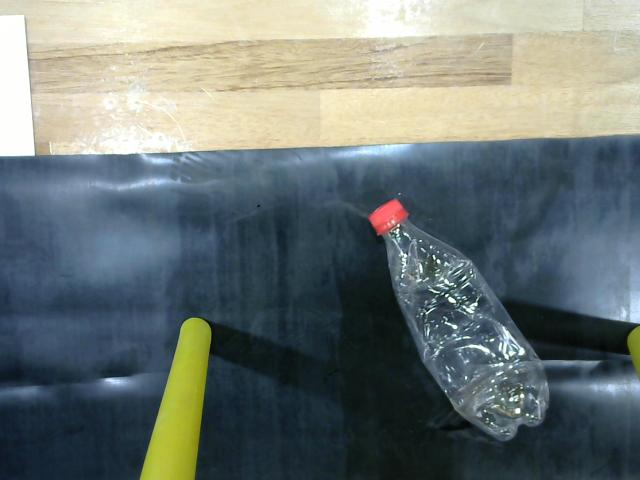bottle: (360, 191, 553, 446)
